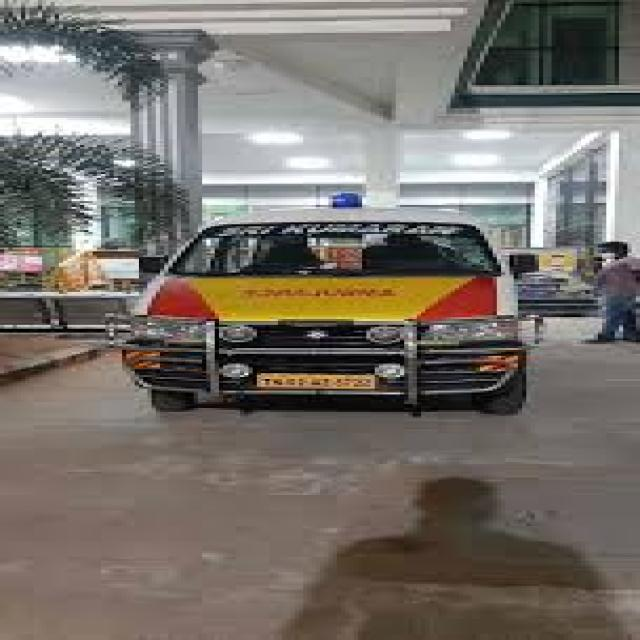ambulance: (118, 191, 530, 418)
